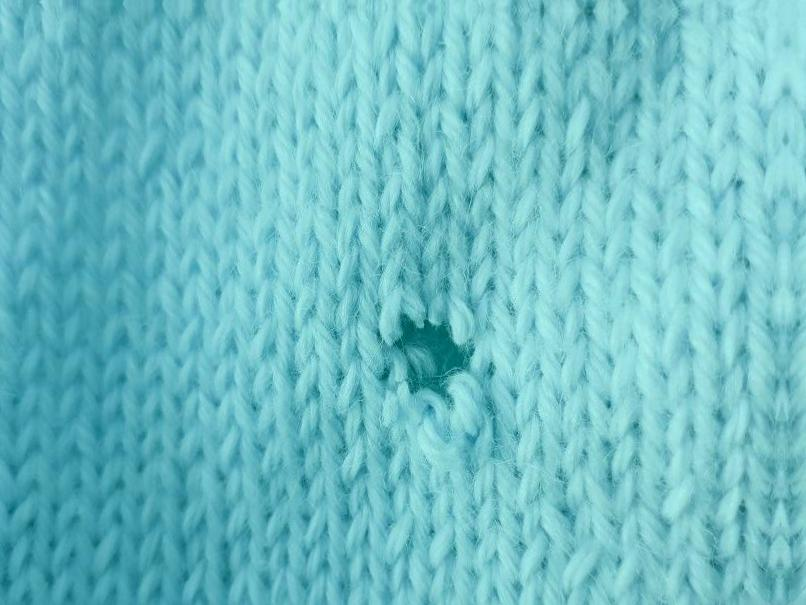hole: (375, 302, 497, 417)
